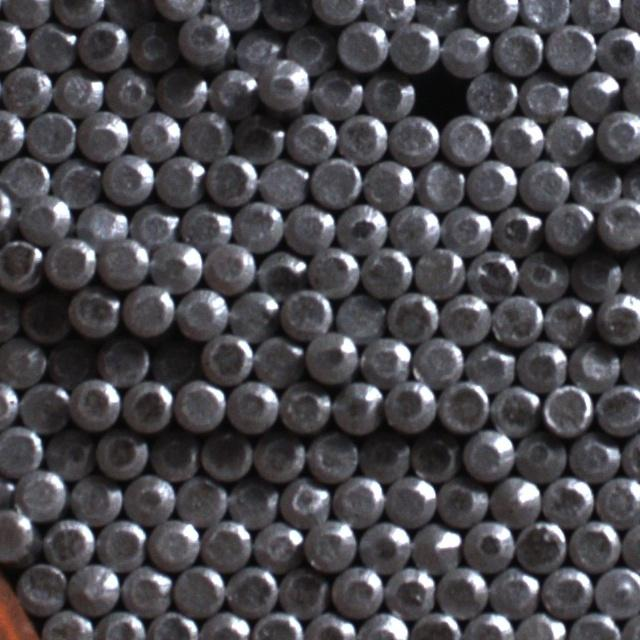tool: (330, 564, 384, 618), (304, 328, 358, 382), (149, 238, 204, 291), (540, 472, 596, 524), (223, 565, 277, 618), (382, 378, 435, 432), (303, 517, 356, 570), (226, 378, 278, 432), (178, 11, 229, 66), (122, 380, 174, 433), (172, 564, 225, 616), (122, 283, 174, 336), (542, 199, 594, 252), (358, 518, 411, 570), (200, 427, 252, 480), (16, 191, 69, 243), (276, 566, 329, 618), (465, 247, 519, 298), (44, 236, 96, 288), (68, 286, 120, 338), (176, 287, 228, 339), (516, 518, 568, 570), (386, 289, 438, 341), (42, 516, 94, 568), (200, 331, 252, 383), (204, 152, 256, 204), (68, 561, 120, 613), (198, 518, 250, 570), (250, 517, 302, 569), (174, 472, 226, 524), (174, 379, 225, 432), (490, 293, 541, 346), (359, 245, 412, 296), (488, 474, 541, 525), (16, 560, 67, 613), (414, 244, 466, 295), (97, 336, 149, 387), (492, 23, 543, 75), (120, 564, 171, 616), (462, 427, 513, 479), (542, 383, 594, 434), (544, 22, 595, 74), (280, 287, 332, 338), (568, 518, 619, 570), (253, 431, 305, 482), (25, 109, 76, 161), (98, 236, 149, 288), (148, 516, 199, 568), (96, 426, 147, 478), (70, 473, 122, 524), (18, 382, 70, 433), (17, 468, 68, 520), (518, 157, 568, 210), (123, 472, 174, 523), (101, 152, 152, 203), (359, 334, 410, 385), (463, 519, 514, 570), (568, 340, 619, 391), (569, 66, 619, 118), (95, 518, 145, 570), (466, 157, 516, 209), (280, 382, 330, 434), (540, 564, 590, 616), (331, 474, 383, 524), (228, 288, 278, 340), (362, 158, 412, 210), (70, 378, 120, 430), (440, 291, 490, 343), (253, 334, 303, 386), (337, 202, 387, 254), (181, 108, 231, 160), (51, 156, 101, 208), (128, 19, 178, 71), (226, 476, 278, 526), (258, 59, 307, 112), (464, 70, 515, 120), (306, 430, 357, 480), (440, 113, 490, 164), (76, 20, 127, 70), (492, 113, 542, 164), (149, 430, 200, 480), (310, 155, 361, 205), (156, 66, 207, 116), (439, 380, 489, 431), (388, 23, 438, 74), (492, 202, 542, 253), (310, 68, 361, 118), (410, 432, 460, 483), (45, 428, 95, 479), (390, 202, 441, 252), (208, 63, 258, 114), (45, 337, 96, 387), (148, 338, 199, 388), (416, 67, 466, 118), (543, 292, 592, 344), (154, 153, 203, 205), (570, 159, 622, 208), (332, 382, 381, 434), (389, 113, 439, 163), (336, 20, 386, 70), (518, 252, 568, 302), (78, 110, 128, 160), (130, 109, 180, 159), (515, 431, 565, 481), (515, 340, 565, 390), (20, 292, 70, 342), (1, 64, 51, 114), (570, 253, 620, 303), (283, 202, 333, 252), (334, 291, 384, 341), (490, 382, 540, 432), (436, 477, 486, 527), (412, 521, 462, 571), (388, 565, 438, 615), (361, 430, 411, 480), (337, 112, 386, 163), (439, 25, 488, 76), (361, 70, 412, 119), (489, 565, 538, 616), (278, 475, 329, 524), (519, 71, 569, 120), (569, 432, 619, 481), (27, 20, 76, 70), (442, 204, 492, 253), (385, 475, 435, 524), (307, 246, 357, 295), (205, 240, 254, 290), (232, 199, 281, 249), (236, 114, 286, 163), (0, 152, 49, 202), (544, 111, 592, 162), (75, 198, 126, 246), (595, 383, 640, 437), (465, 342, 514, 391), (440, 566, 489, 615), (417, 159, 465, 209), (414, 336, 464, 384), (286, 113, 334, 163), (594, 564, 640, 616), (258, 158, 307, 206), (0, 336, 46, 387), (179, 202, 230, 248), (595, 472, 640, 524), (595, 110, 640, 162), (53, 67, 101, 115), (105, 66, 153, 114), (596, 292, 640, 344), (0, 238, 42, 292), (257, 245, 306, 291), (284, 26, 333, 72), (232, 27, 282, 72), (597, 25, 640, 77), (597, 198, 640, 250), (130, 201, 177, 247), (0, 424, 41, 474), (0, 507, 33, 562), (250, 608, 303, 640), (40, 607, 91, 640), (566, 609, 620, 640), (410, 608, 461, 640), (94, 609, 146, 640), (147, 609, 199, 640), (303, 610, 356, 640), (514, 610, 566, 640), (358, 609, 408, 640), (467, 0, 518, 30), (199, 610, 250, 640), (462, 610, 512, 640), (261, 0, 309, 31), (519, 0, 570, 29), (570, 0, 619, 30), (414, 0, 461, 30), (52, 0, 104, 27), (366, 0, 415, 28), (212, 0, 262, 27), (0, 18, 26, 68), (103, 0, 153, 26), (2, 0, 52, 25), (0, 108, 25, 158), (312, 0, 362, 23), (0, 290, 21, 342)
